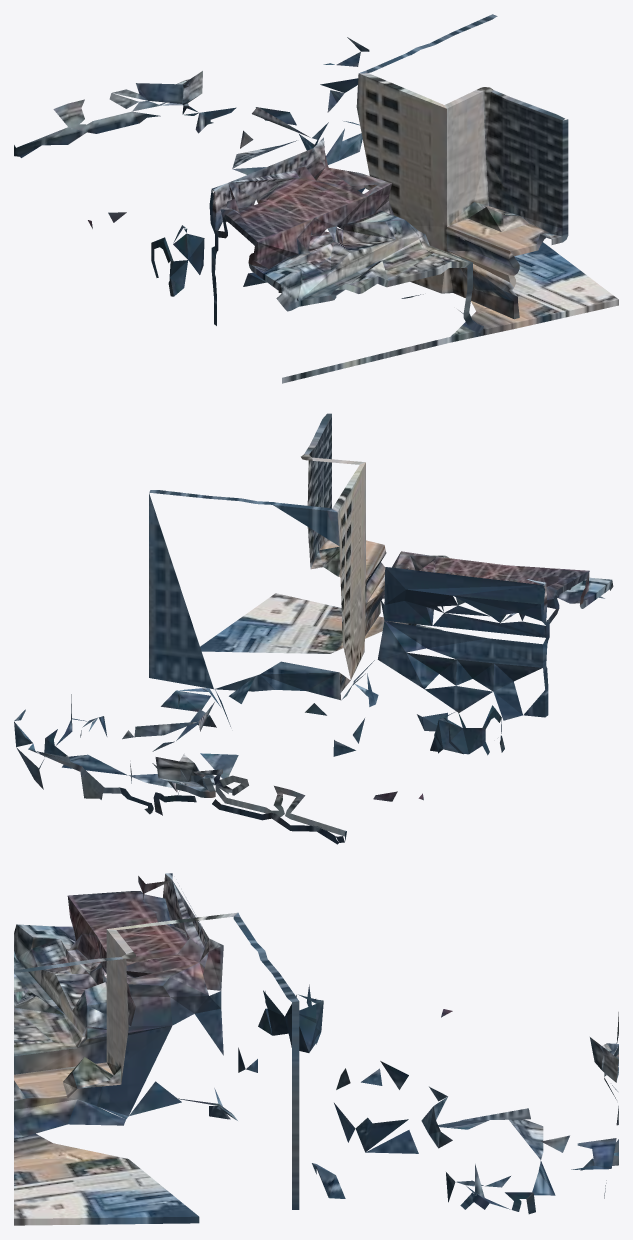
File: chunk_0_0.glb
The picture shows the model from 3 angles, top to bottom: view 1: azimuth 30°, elevation 25°; view 2: azimuth 150°, elevation 25°; view 3: azimuth 270°, elevation 25°; orthographic projection. The views are drawn at different scales.
Visible parts, largest first — view 1: hero-chunk; view 2: hero-chunk; view 3: hero-chunk.
Boxes of the visible parts, x1,y1,x2,y2 form: hero-chunk: [14, 14, 618, 383]; hero-chunk: [14, 413, 613, 844]; hero-chunk: [14, 873, 618, 1225].
Size of the model in its own units: 56.65 by 31.22 by 76.32.
2 materials, 2 textured.
